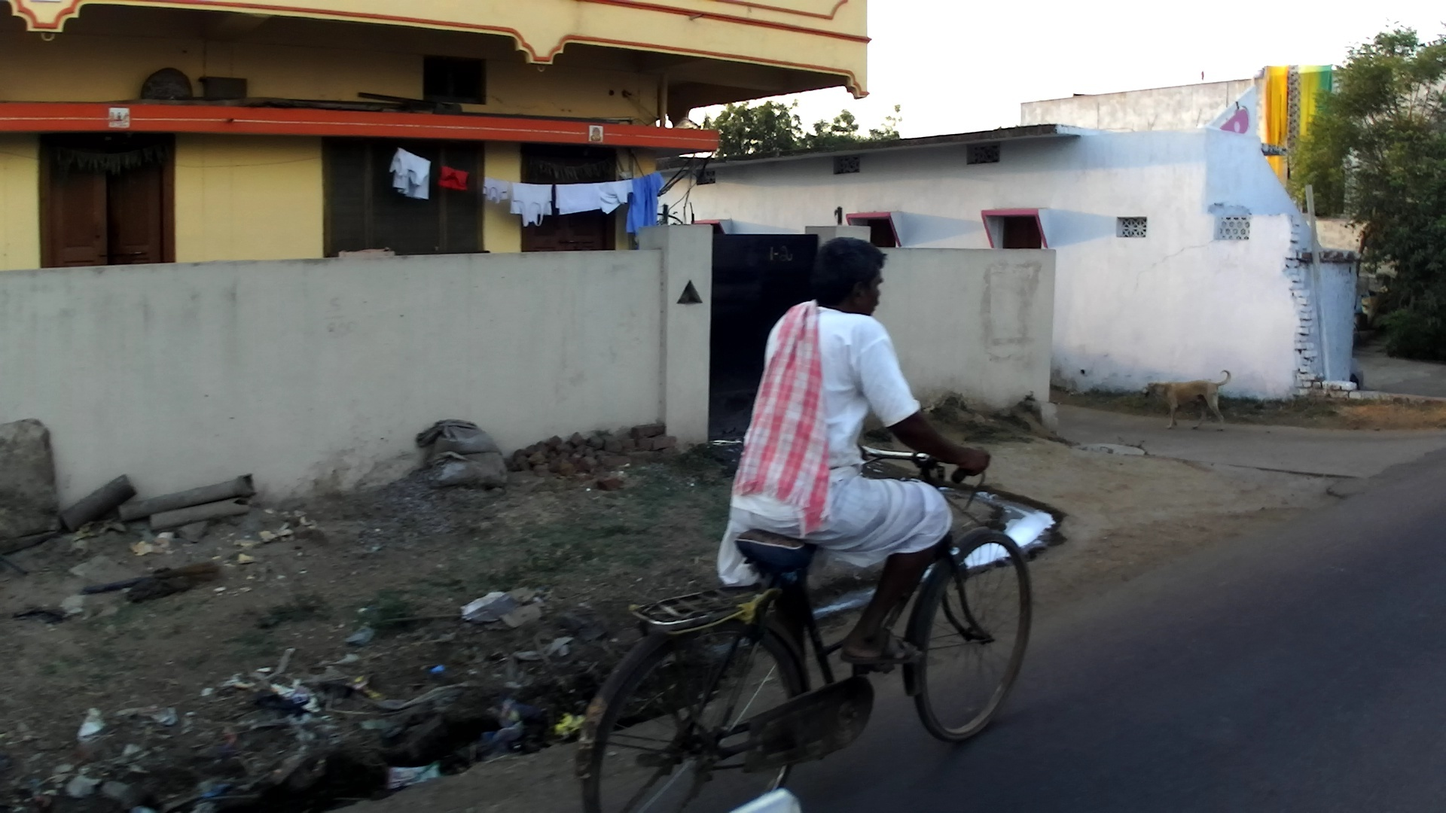animal: (1141, 370, 1234, 431)
bicycle: (575, 443, 1032, 813)
rider: (715, 237, 990, 667)
